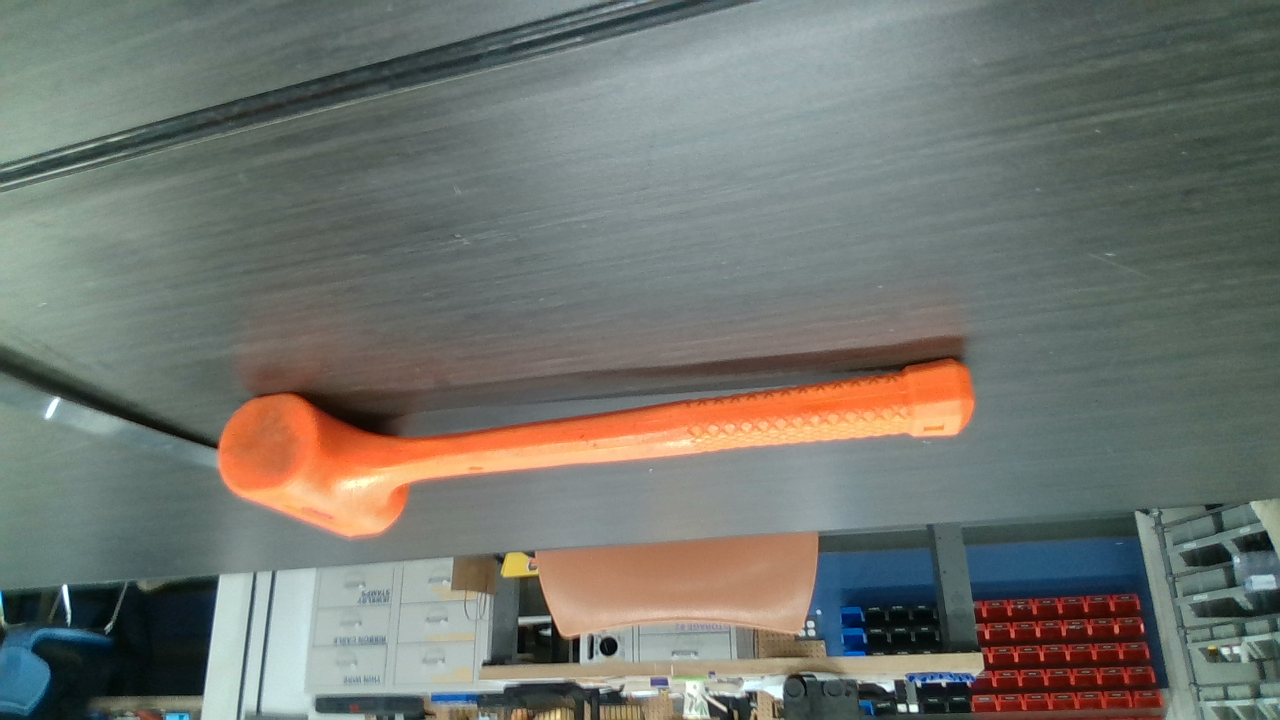Orange Hammer: (228, 354, 972, 538)
